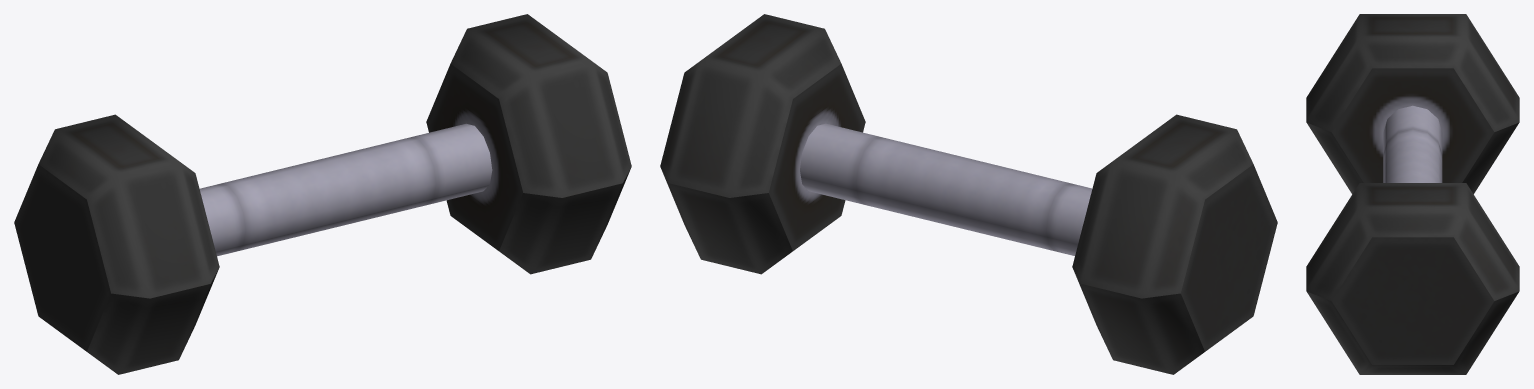
The model's file is MSH_DumbBell_03.FBX.
3 renders of one model, left to right at view 1: azimuth 30°, elevation 25°; view 2: azimuth 150°, elevation 25°; view 3: azimuth 270°, elevation 25°, orthographic. The views are drawn at different scales.
Visible parts, largest first — view 1: MSH_DumbBell_03; view 2: MSH_DumbBell_03; view 3: MSH_DumbBell_03.
Part boxes in pixels (<box>): MSH_DumbBell_03: <box>14,14,631,374</box>; MSH_DumbBell_03: <box>660,14,1277,374</box>; MSH_DumbBell_03: <box>1306,14,1519,374</box>.
Size of what is drawn, in the model's own units: 26.9 by 11.36 by 9.83.
